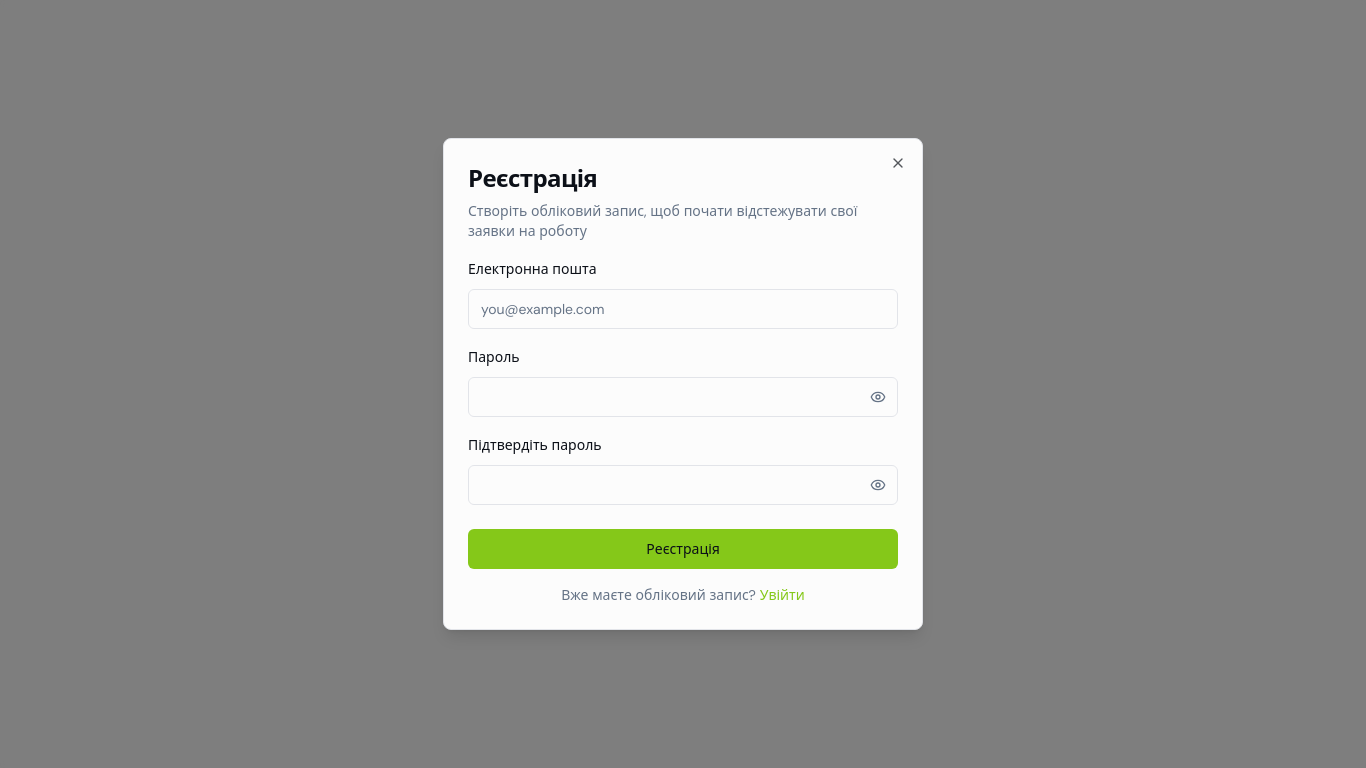
Test: a password the server refused, in uk › localises USER_ALREADY_EXISTS in the registration form
The width and height of the screenshot is (1366, 768).
In the field labelled "Електронна пошта": x=683, y=309 468,289 -> 898,329, type "user@test.com"
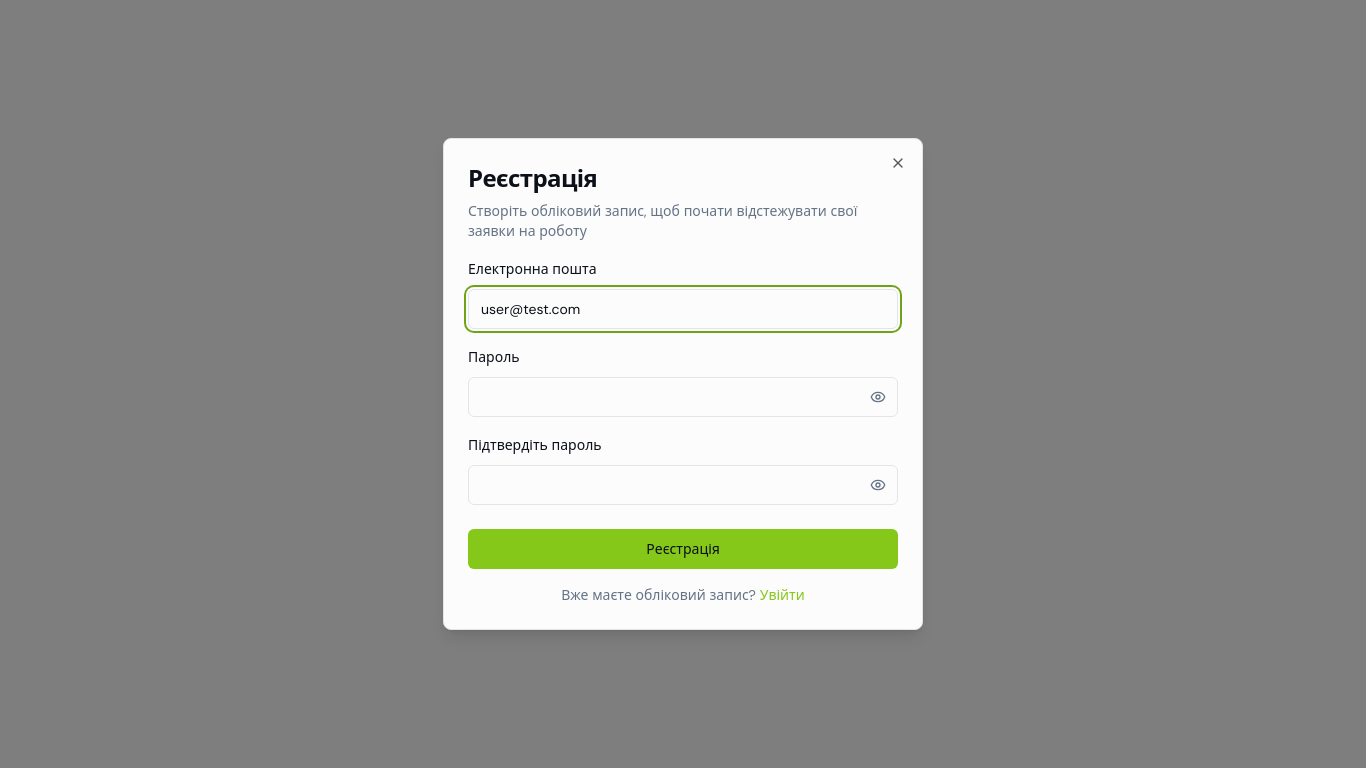
In the password field labelled "Пароль": x=683, y=397 468,377 -> 898,417, type "validpass1"
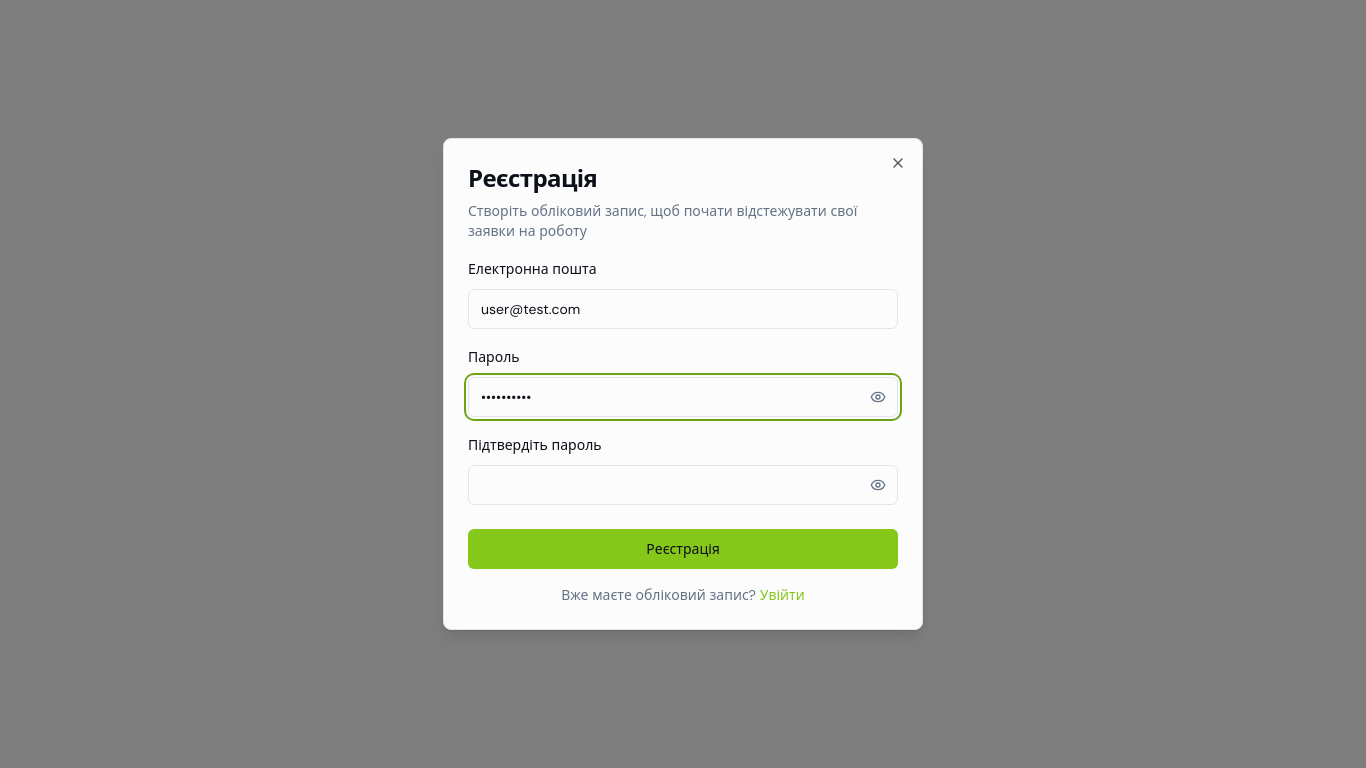
In the password field labelled "Підтвердіть пароль": x=683, y=485 468,465 -> 898,505, type "validpass1"
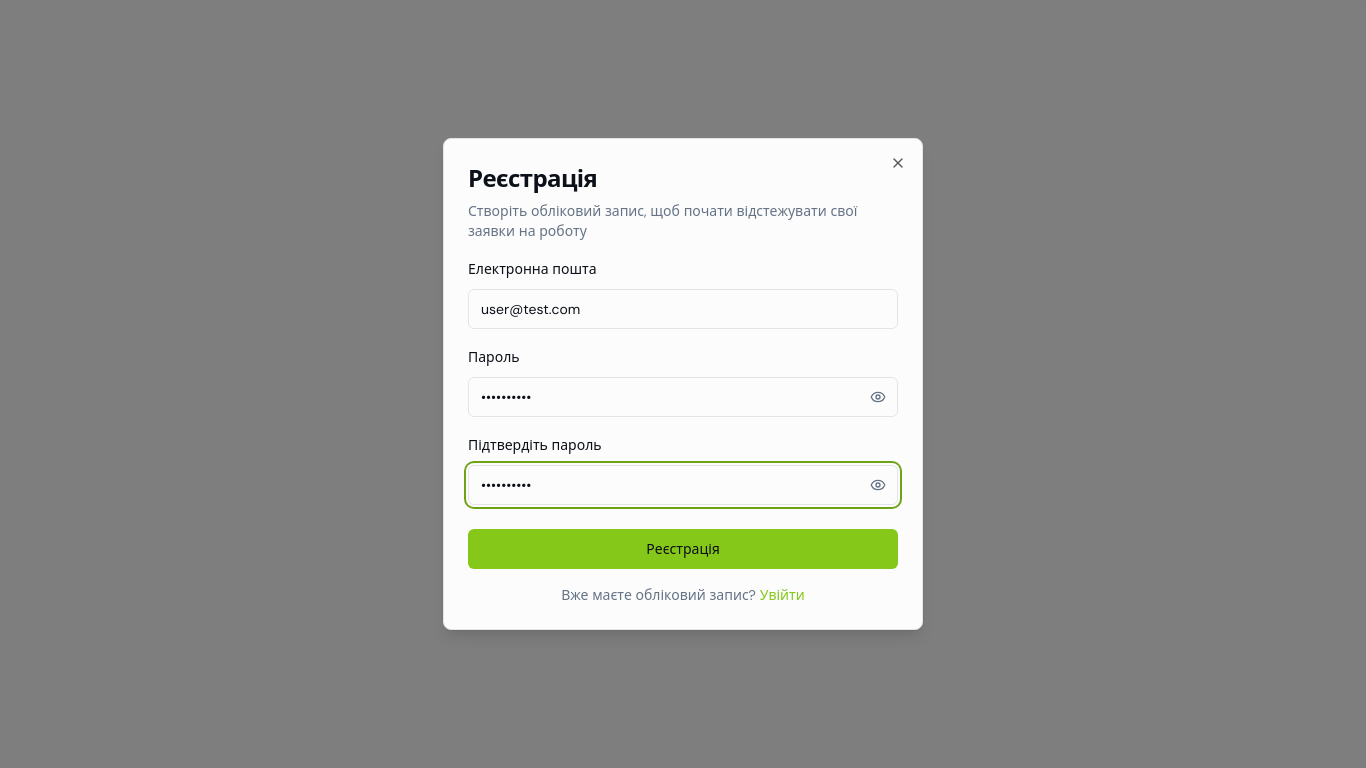
Click the button "Реєстрація": x=683, y=549 468,529 -> 898,569
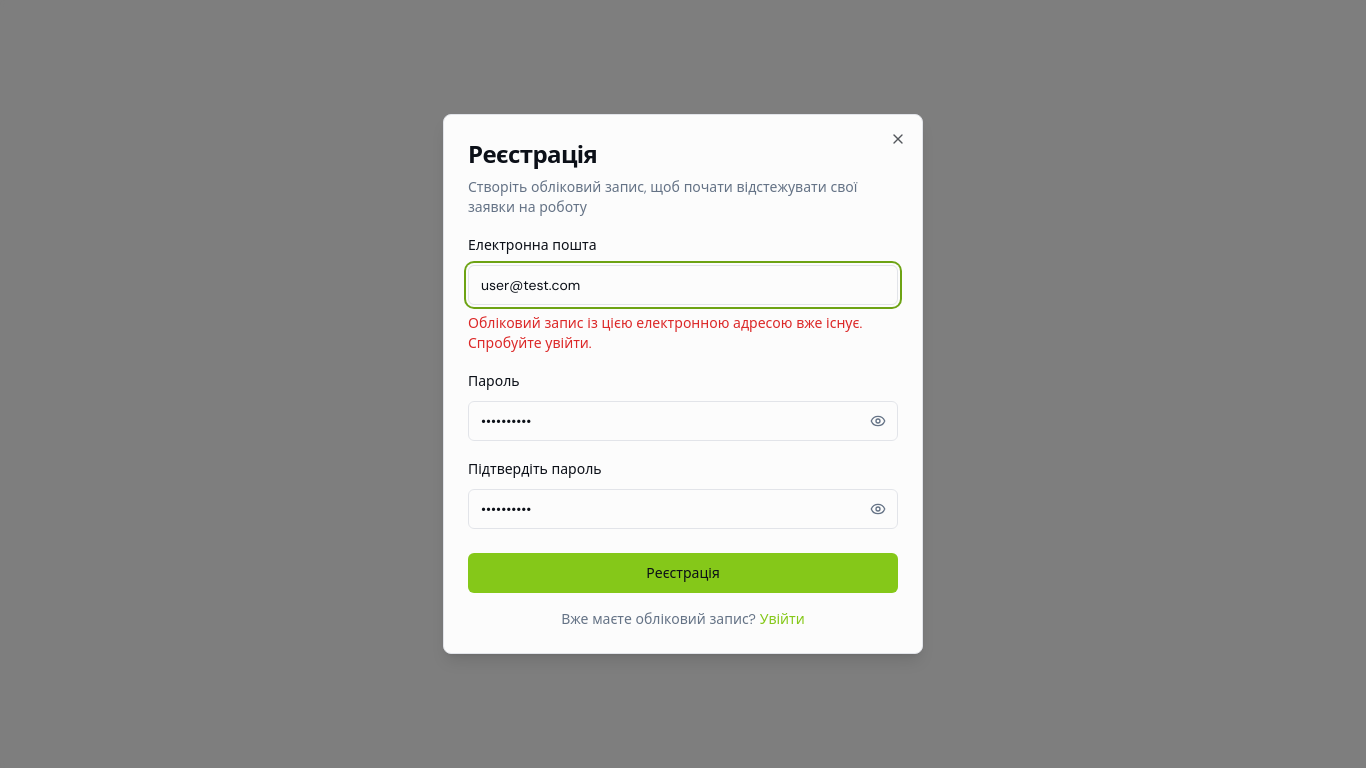
Expected: the text "Обліковий запис із цією електронною адресою вже існує. Спробуйте увійти." is shown, 468,313 -> 898,353
